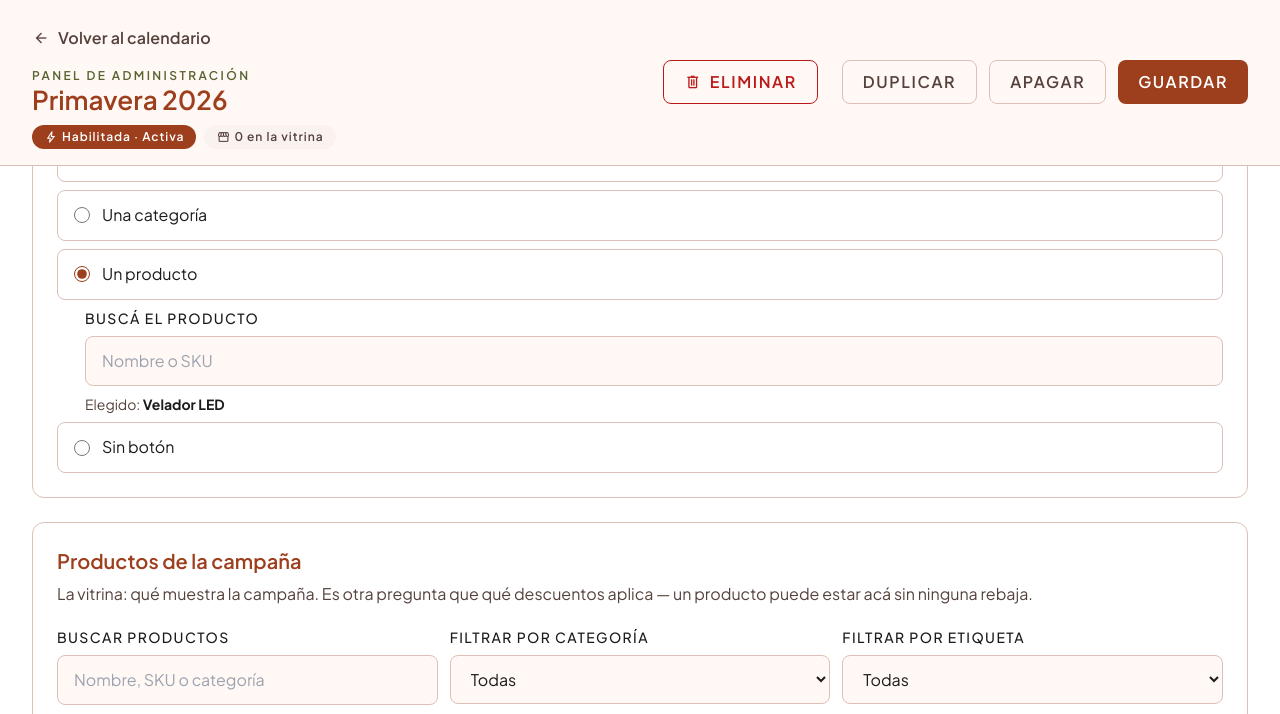
Test case: AdminCampaniaEditor — el destino del CTA › al elegir otro producto, «Elegido» muestra el nuevo en el acto
The width and height of the screenshot is (1280, 714).
(page scrolled)
Type "reloj" into the search field labelled "Buscá el producto" at point(654, 361), box [85,336,1223,386]
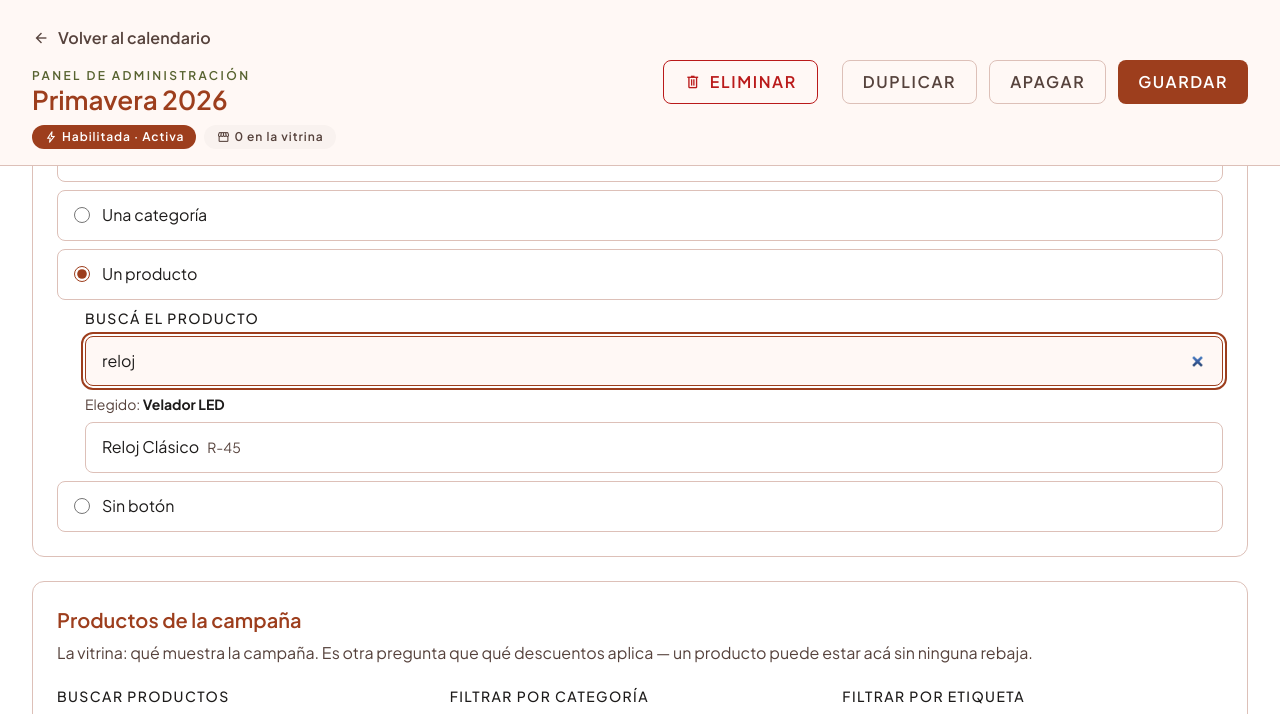
Click the button "Reloj Clásico" at point(151, 447), box [94,431,1214,464]
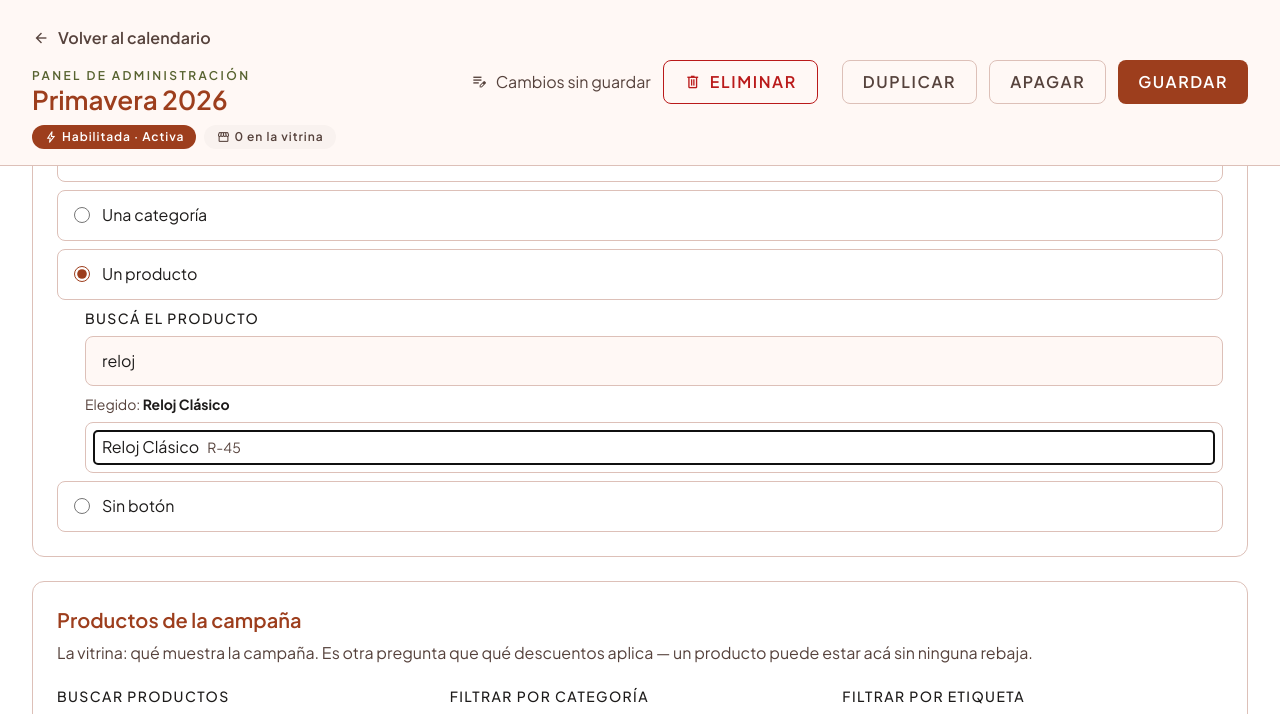
Now the text "Elegido: Reloj Clásico" is shown, box [85,395,230,413]
